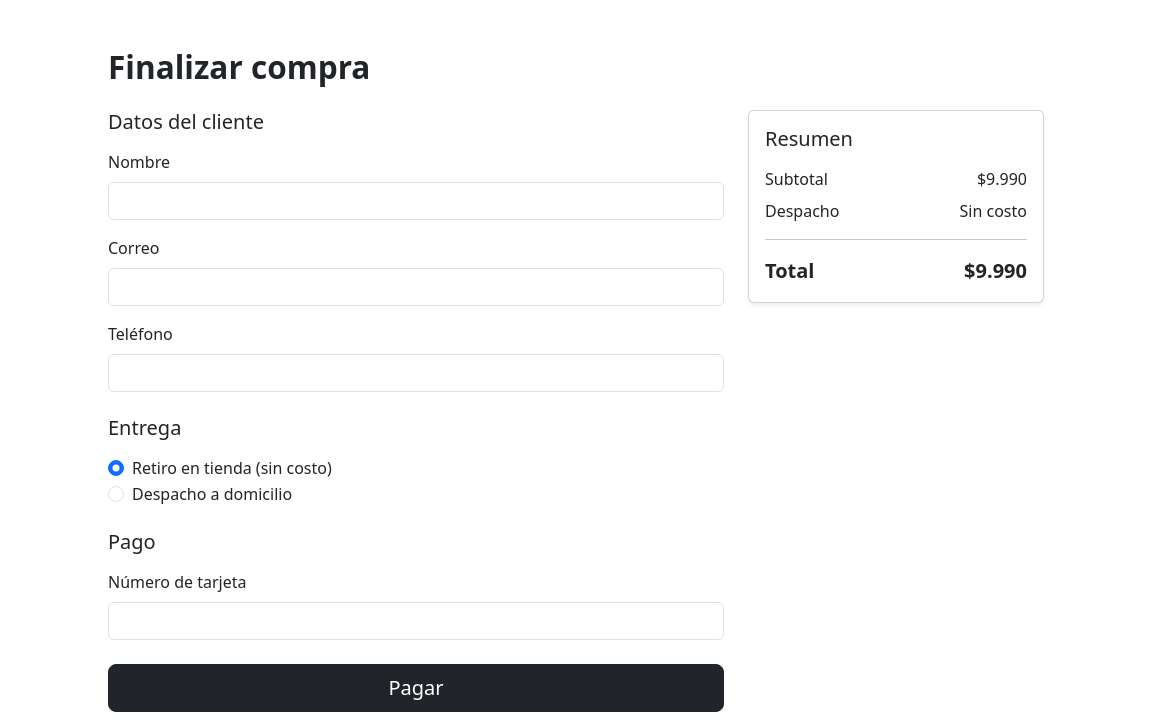
Test case: PaginaCheckout (flujo de compra) › crea el pedido, vacía el carrito y muestra la compra exitosa
In the field labelled "Nombre": [416, 201] box [108,182,724,220], type "Vicente"
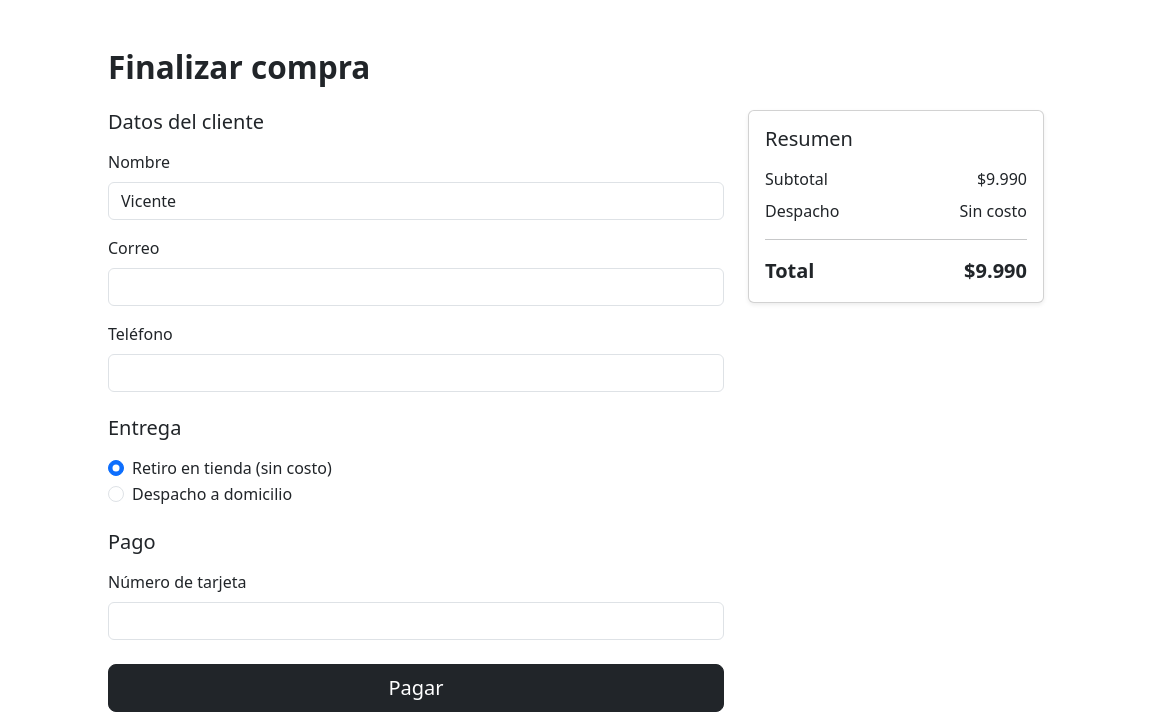
In the field labelled "Correo": [416, 287] box [108,268,724,306], type "vice@fuma.cl"
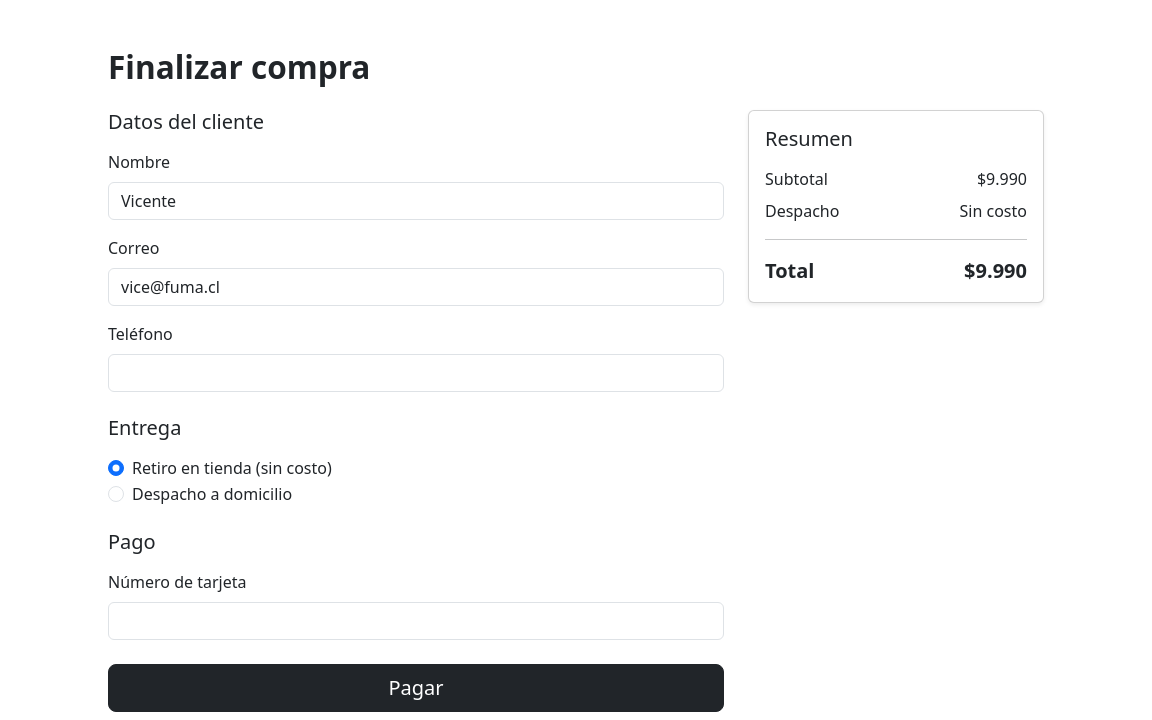
In the field labelled "Teléfono": [416, 373] box [108,354,724,392], type "912345678"
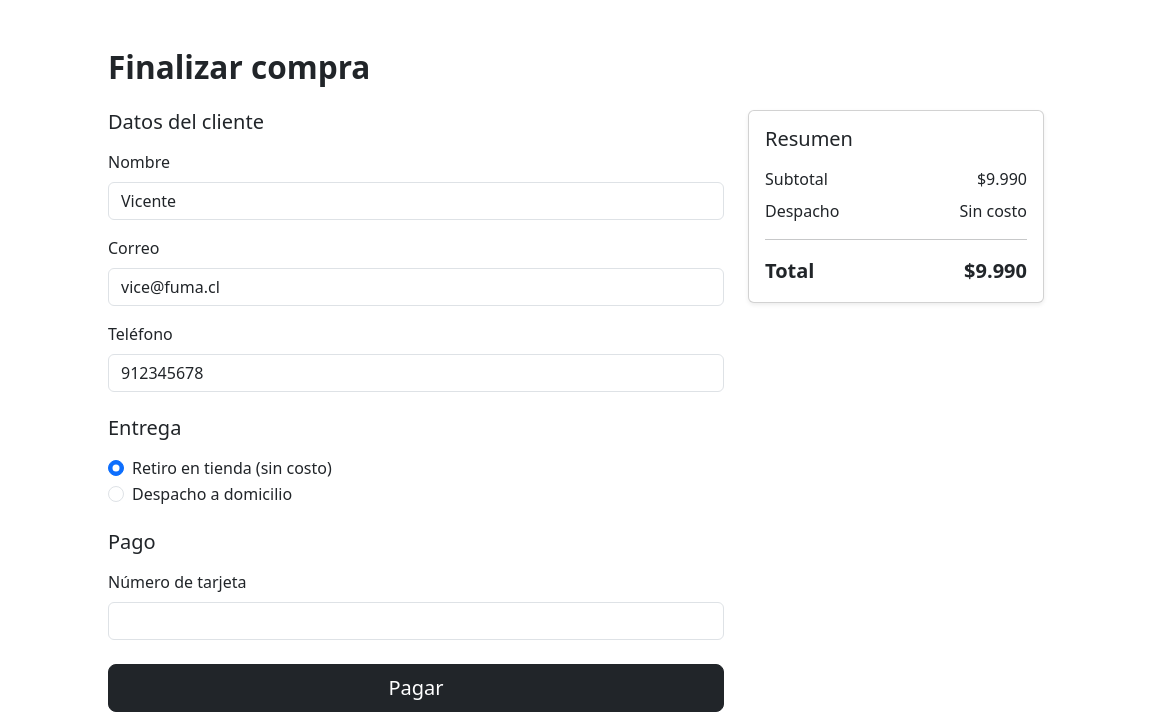
In the field labelled "Número de tarjeta": [416, 621] box [108,602,724,640], type "4111 1111 1111 1111"
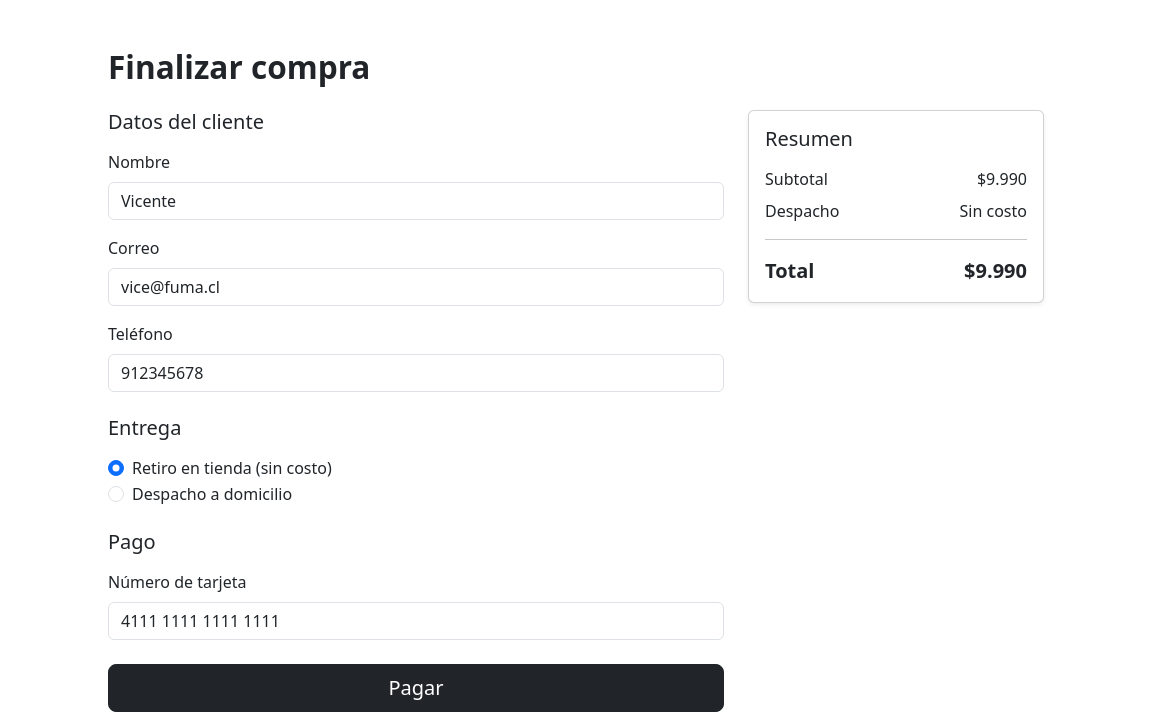
Click the button "Pagar": [416, 688] box [108,664,724,712]
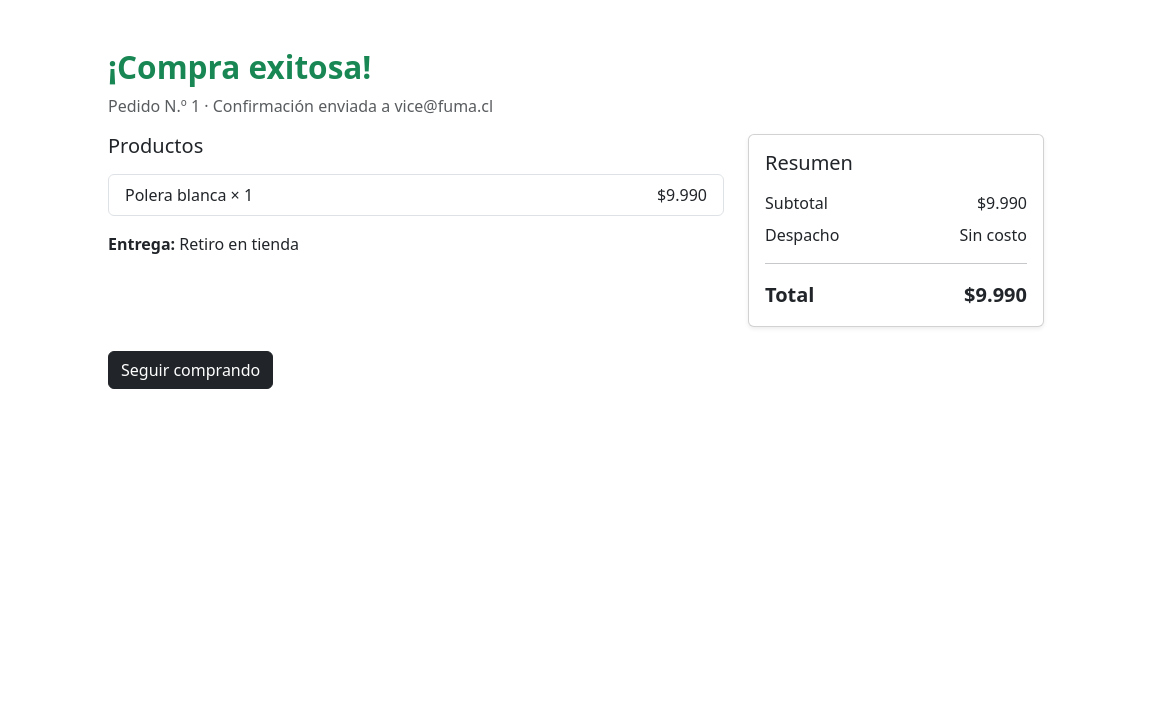
Check: the heading "¡Compra exitosa!" is shown, box [108,45,371,88]
